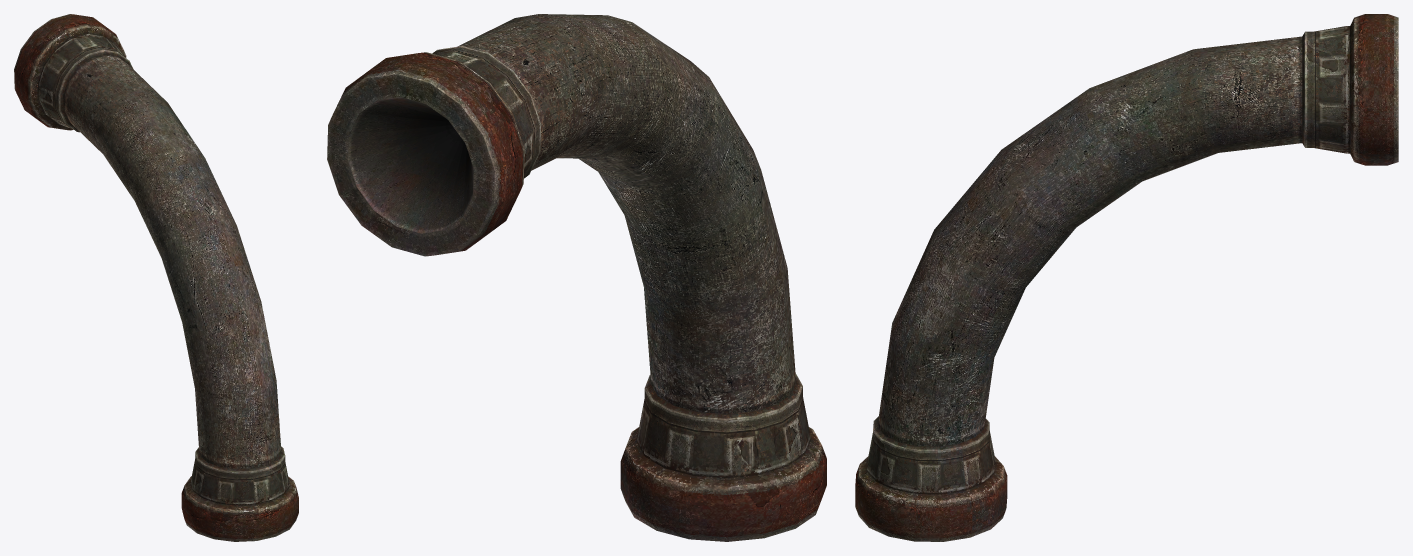
File: pipe_large_90_tau.dae
3 views of the same model, side by side, from view 1: azimuth 30°, elevation 25°; view 2: azimuth 150°, elevation 25°; view 3: azimuth 270°, elevation 25° (orthographic). The views are drawn at different scales.
Visible parts, largest first — view 1: pipe_large_90_pplant; view 2: pipe_large_90_pplant; view 3: pipe_large_90_pplant.
Boxes of the visible parts, x1,y1,x2,y2 form: pipe_large_90_pplant: [14, 14, 298, 541]; pipe_large_90_pplant: [327, 14, 826, 541]; pipe_large_90_pplant: [855, 14, 1398, 541].
Bounding box in the file's own units: 0.4907 × 1.75 × 1.75.
